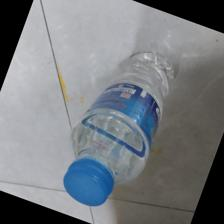Lavie: (63, 46, 176, 207)
